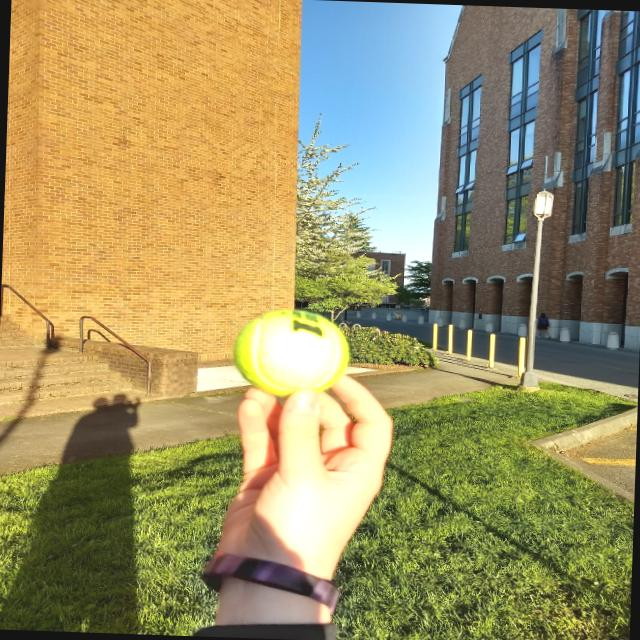Tennis Ball: (233, 304, 349, 398)
